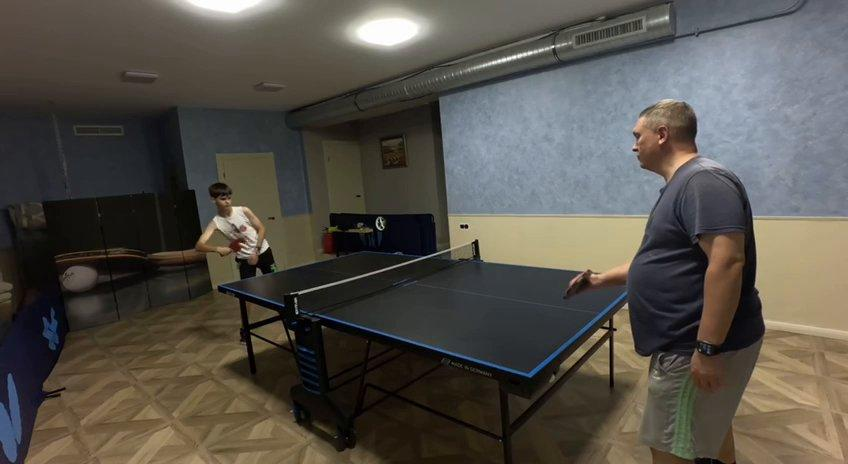Ball: (239, 240, 250, 250)
Net: (280, 241, 481, 325)
Player1: (196, 182, 273, 271)
Player2: (626, 100, 763, 463)
Table: (222, 250, 635, 375)
